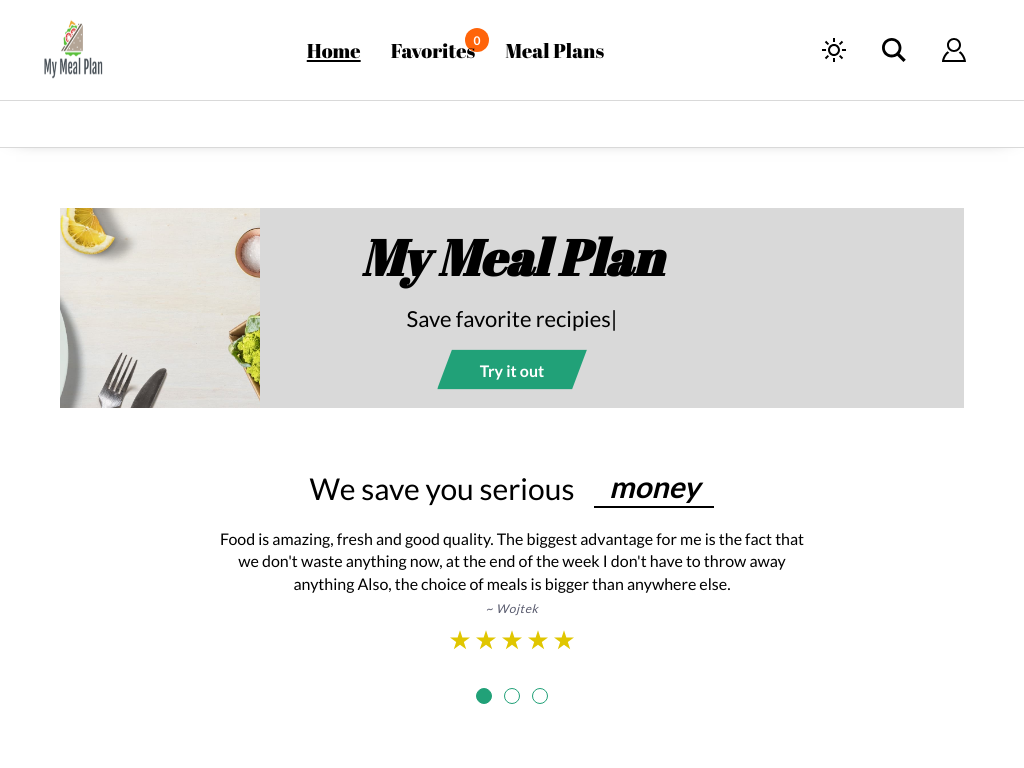
Searchbar › should open when user clicks on search SVG and close when user clicks on close button
The image size is (1024, 768).
Click the button named "search" at (894, 50), box [864,0,924,100]
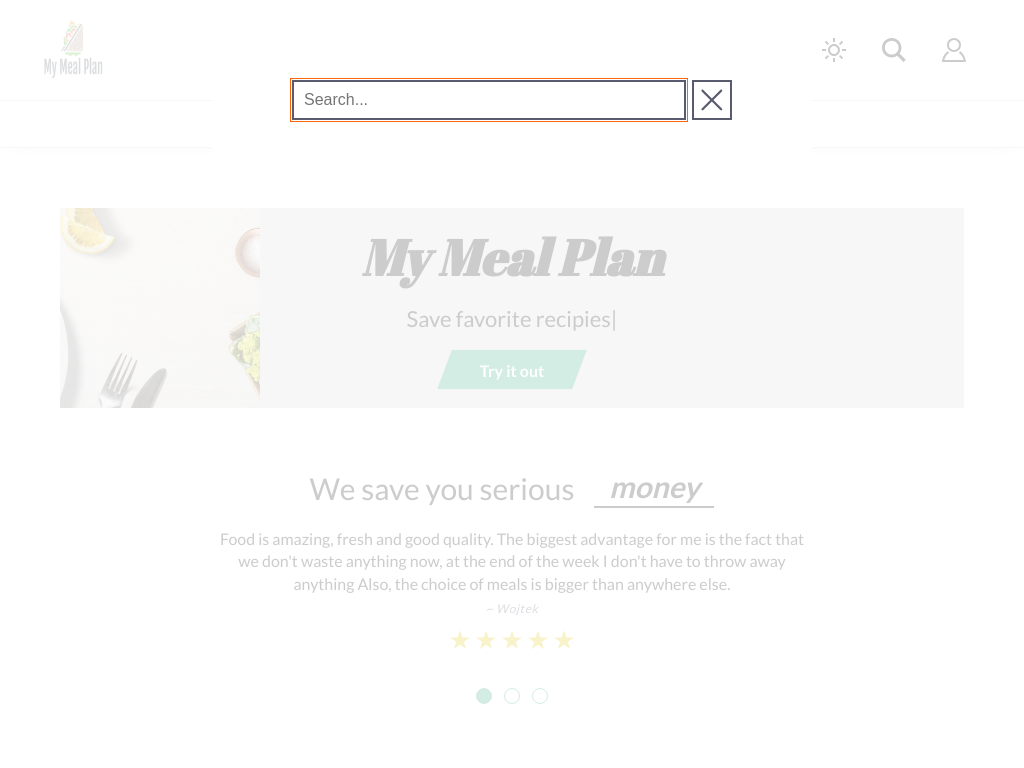
Click the button named "close searchbar" at (712, 100), box [692,80,732,120]
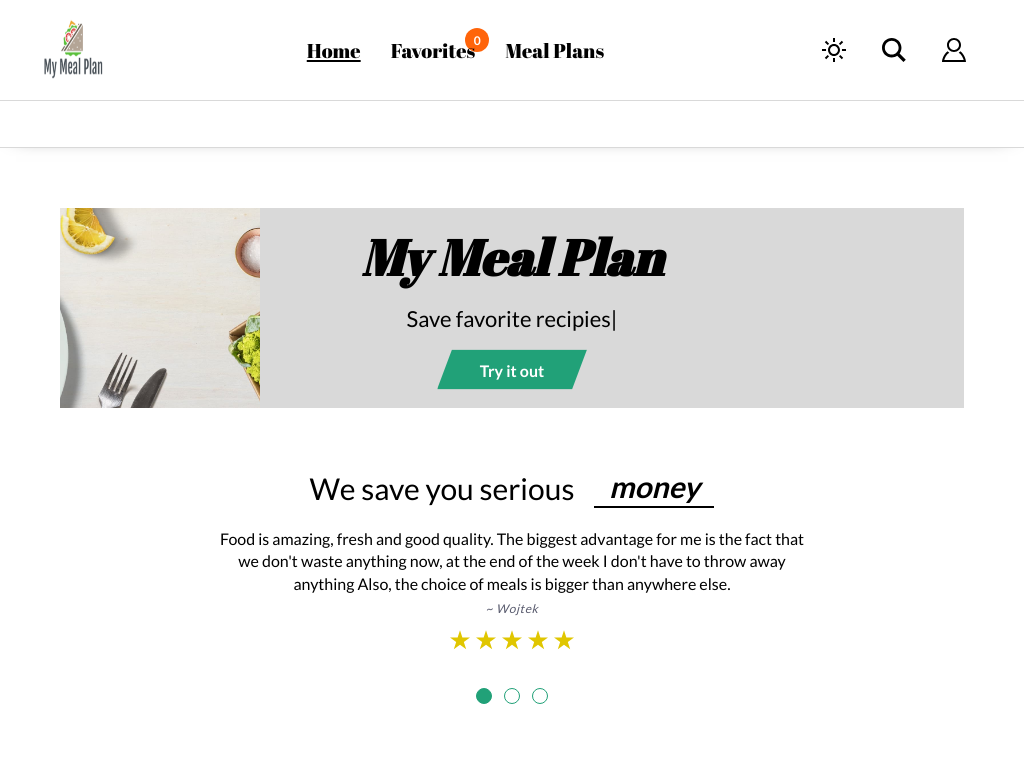
Expected: the field with placeholder "Search..." is gone
